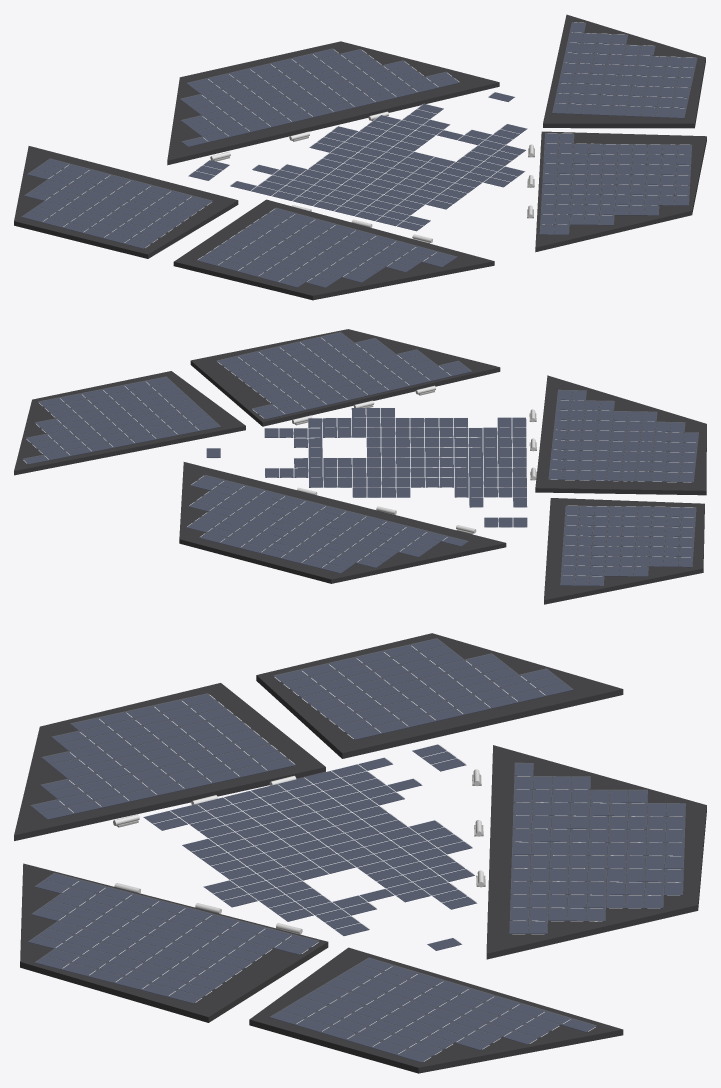
File: mer-solar.glb
The picture shows the model from 3 angles, top to bottom: view 1: azimuth 30°, elevation 25°; view 2: azimuth 150°, elevation 25°; view 3: azimuth 270°, elevation 25°; orthographic projection. The views are drawn at different scales.
Parts seen in each view (by area): view 1: SA_DECK_CELLS, SA_DECK_COVERGLASS, SA_REAR_CELLS, SA_REAR_COVERGLASS, SA_WING_LEFT_FRONT_CELLS, SA_WING_RIGHT_FRONT_CELLS, SA_WING_LEFT_FRONT_COVERGLASS, SA_WING_RIGHT_FRONT_COVERGLASS, SA_REAR_SUBSTRATE, SA_WING_LEFT_REAR_CELLS, SA_WING_RIGHT_REAR_CELLS, SA_WING_LEFT_REAR_COVERGLASS (+11 smaller); view 2: SA_DECK_CELLS, SA_DECK_COVERGLASS, SA_REAR_CELLS, SA_REAR_COVERGLASS, SA_WING_LEFT_FRONT_CELLS, SA_WING_LEFT_FRONT_COVERGLASS, SA_WING_RIGHT_FRONT_CELLS, SA_WING_RIGHT_FRONT_COVERGLASS, SA_REAR_SUBSTRATE, SA_WING_LEFT_REAR_CELLS, SA_WING_LEFT_REAR_COVERGLASS, SA_WING_RIGHT_REAR_CELLS (+11 smaller); view 3: SA_DECK_CELLS, SA_DECK_COVERGLASS, SA_REAR_CELLS, SA_REAR_COVERGLASS, SA_WING_LEFT_FRONT_CELLS, SA_WING_LEFT_FRONT_COVERGLASS, SA_WING_RIGHT_FRONT_CELLS, SA_WING_RIGHT_FRONT_COVERGLASS, SA_WING_LEFT_REAR_CELLS, SA_WING_LEFT_REAR_COVERGLASS, SA_WING_RIGHT_REAR_CELLS, SA_WING_RIGHT_REAR_COVERGLASS (+9 smaller).
Boxes of the visible parts, box(x1,y1,x2,y2) form: SA_DECK_CELLS: box(188, 92, 527, 231); SA_DECK_COVERGLASS: box(189, 92, 526, 230); SA_REAR_CELLS: box(180, 49, 459, 146); SA_REAR_COVERGLASS: box(181, 49, 458, 145); SA_WING_LEFT_FRONT_CELLS: box(540, 133, 691, 234); SA_WING_RIGHT_FRONT_CELLS: box(197, 208, 457, 287); SA_WING_LEFT_FRONT_COVERGLASS: box(540, 133, 691, 233); SA_WING_RIGHT_FRONT_COVERGLASS: box(198, 208, 456, 286); SA_REAR_SUBSTRATE: box(167, 41, 499, 165); SA_WING_LEFT_REAR_CELLS: box(552, 22, 697, 118); SA_WING_RIGHT_REAR_CELLS: box(22, 159, 212, 248); SA_WING_LEFT_REAR_COVERGLASS: box(553, 23, 696, 117); SA_DECK_CELLS: box(206, 408, 527, 527); SA_DECK_COVERGLASS: box(207, 408, 526, 526); SA_REAR_CELLS: box(187, 475, 468, 573); SA_REAR_COVERGLASS: box(188, 475, 467, 572); SA_WING_LEFT_FRONT_CELLS: box(217, 332, 471, 419); SA_WING_LEFT_FRONT_COVERGLASS: box(218, 332, 470, 418); SA_WING_RIGHT_FRONT_CELLS: box(548, 390, 698, 482); SA_WING_RIGHT_FRONT_COVERGLASS: box(549, 390, 698, 481); SA_REAR_SUBSTRATE: box(179, 462, 506, 583); SA_WING_LEFT_REAR_CELLS: box(23, 377, 220, 464); SA_WING_LEFT_REAR_COVERGLASS: box(23, 377, 220, 463); SA_WING_RIGHT_REAR_CELLS: box(560, 506, 696, 585); SA_DECK_CELLS: box(143, 744, 476, 950); SA_DECK_COVERGLASS: box(144, 744, 476, 949); SA_REAR_CELLS: box(509, 763, 685, 934); SA_REAR_COVERGLASS: box(510, 763, 685, 932); SA_WING_LEFT_FRONT_CELLS: box(28, 873, 318, 1003); SA_WING_LEFT_FRONT_COVERGLASS: box(29, 873, 318, 1002); SA_WING_RIGHT_FRONT_CELLS: box(31, 694, 295, 819); SA_WING_RIGHT_FRONT_COVERGLASS: box(31, 694, 294, 818); SA_WING_LEFT_REAR_CELLS: box(270, 958, 596, 1062); SA_WING_LEFT_REAR_COVERGLASS: box(271, 958, 595, 1061); SA_WING_RIGHT_REAR_CELLS: box(274, 639, 572, 739); SA_WING_RIGHT_REAR_COVERGLASS: box(274, 638, 572, 738).
Size of the model in its own units: 2.24 by 0.0172 by 1.51.
